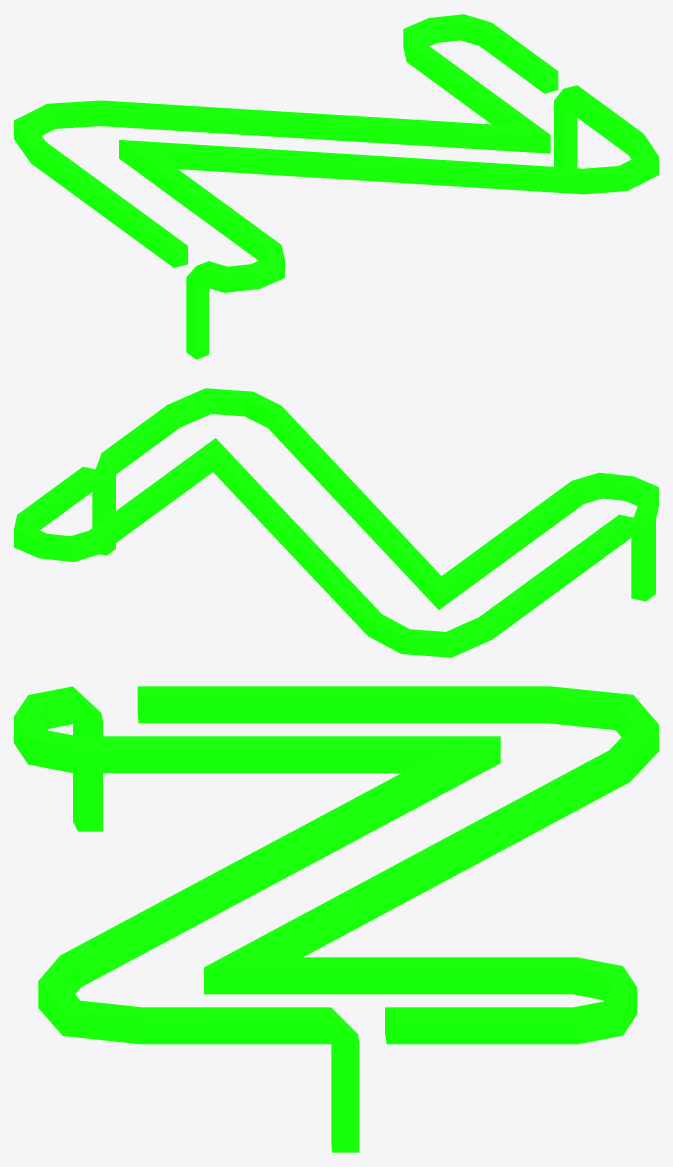
Rendered from Alphabet_3D_04_Z.FBX.
The picture shows the model from 3 angles, top to bottom: view 1: azimuth 30°, elevation 25°; view 2: azimuth 150°, elevation 25°; view 3: azimuth 270°, elevation 25°; orthographic projection. The views are drawn at different scales.
Parts seen in each view (by area): view 1: Alphabet_3D_04_Z; view 2: Alphabet_3D_04_Z; view 3: Alphabet_3D_04_Z.
Boxes of the visible parts, x1,y1,x2,y2 form: Alphabet_3D_04_Z: (14, 14, 658, 359); Alphabet_3D_04_Z: (14, 388, 658, 657); Alphabet_3D_04_Z: (14, 686, 658, 1152).
Size of the model in its own units: 66.3 by 12.63 by 54.6.
